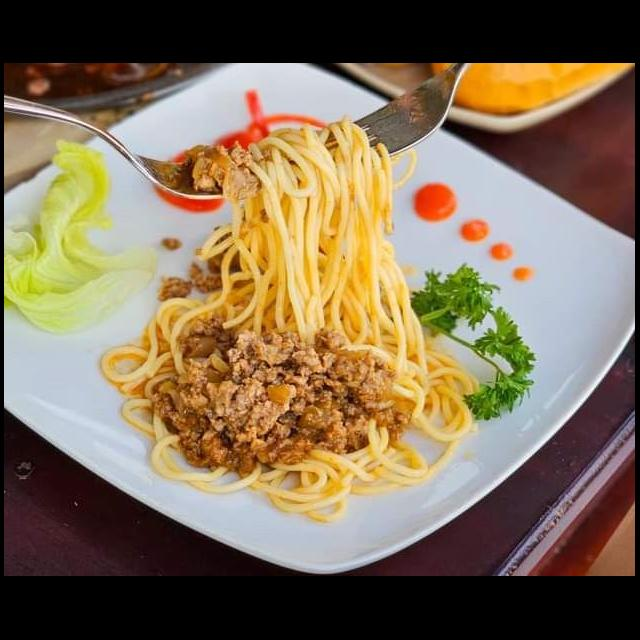mi: (96, 108, 486, 526)
thit bam: (150, 326, 412, 478), (180, 138, 268, 204)
